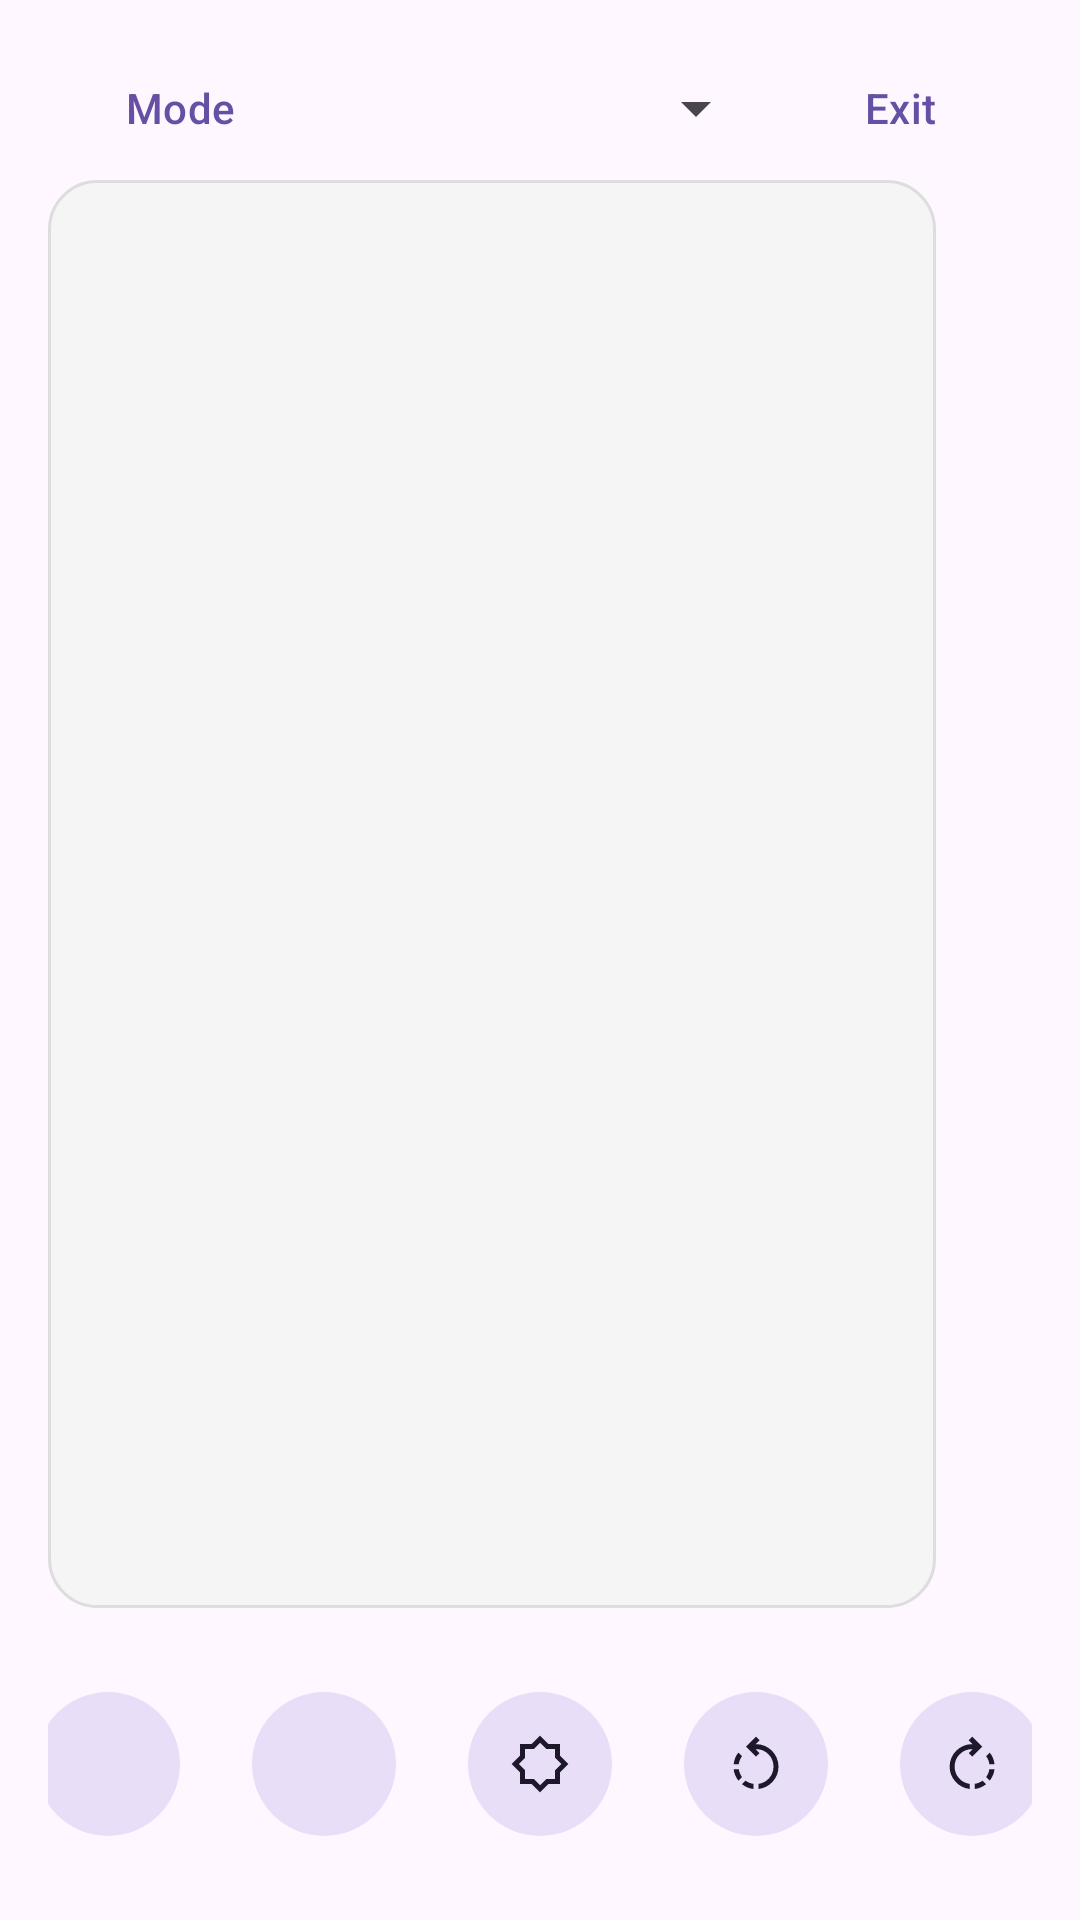

Where to tap for icons on this 1080px×1920px app screen, as (x,y):
Rotate: (756,1763)
Rotate Clockwise: (966,1763)
